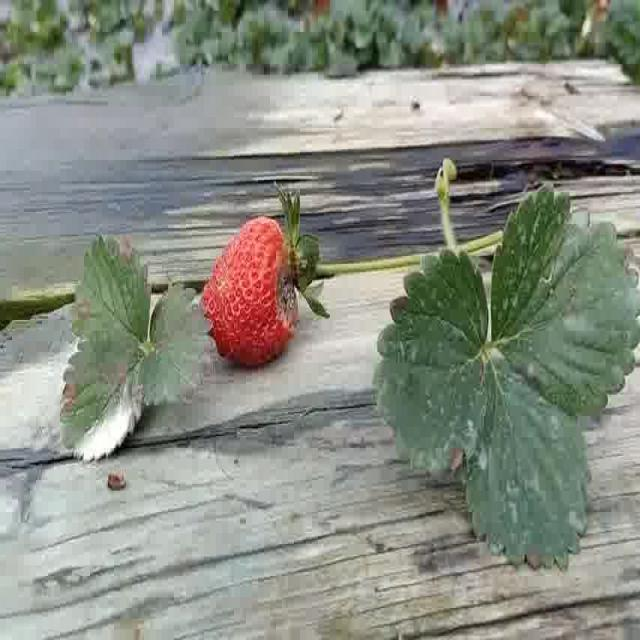Mancha negra Antracnosis: (183, 206, 313, 372)
